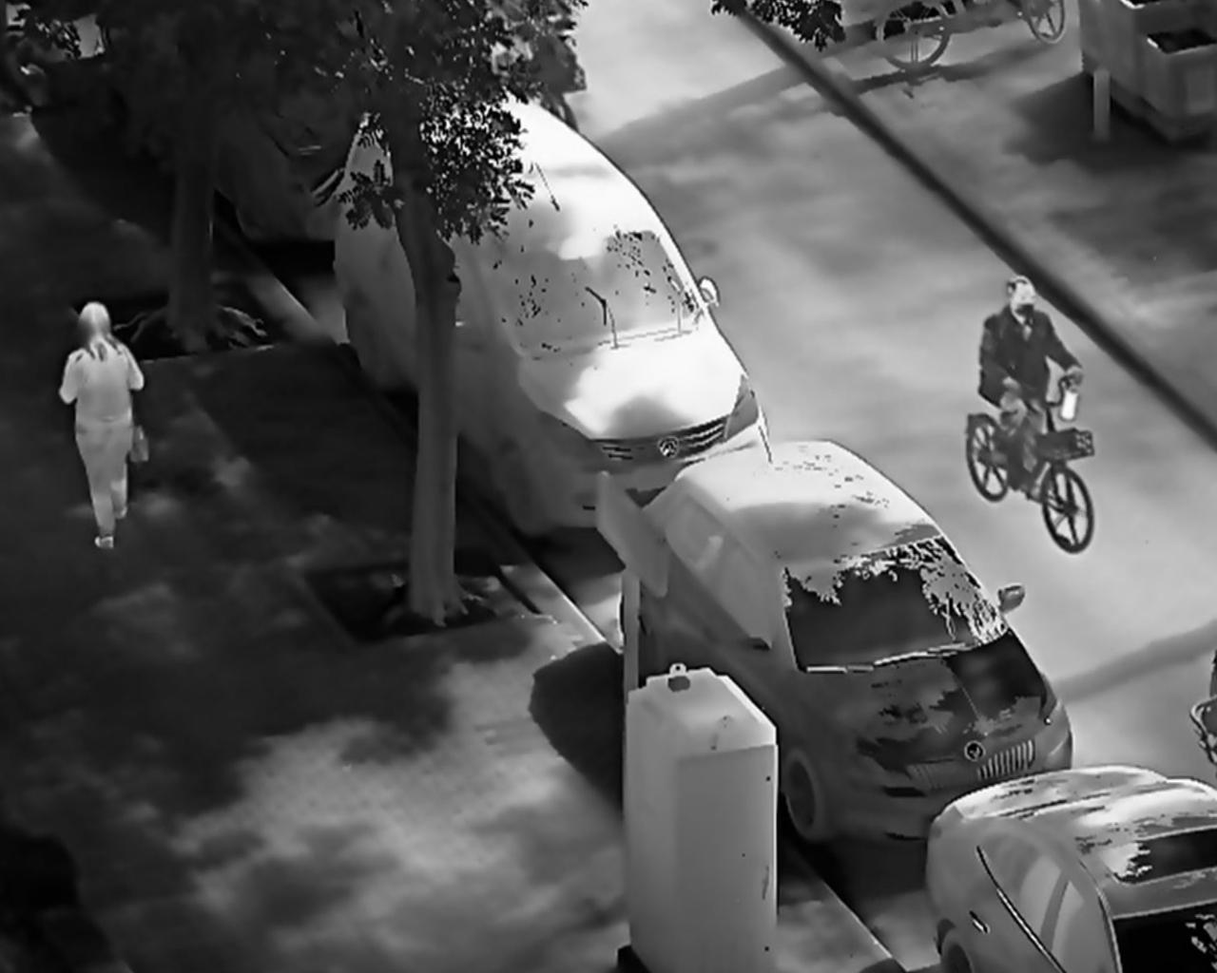person: (975, 271, 1088, 494), (61, 295, 153, 556)
